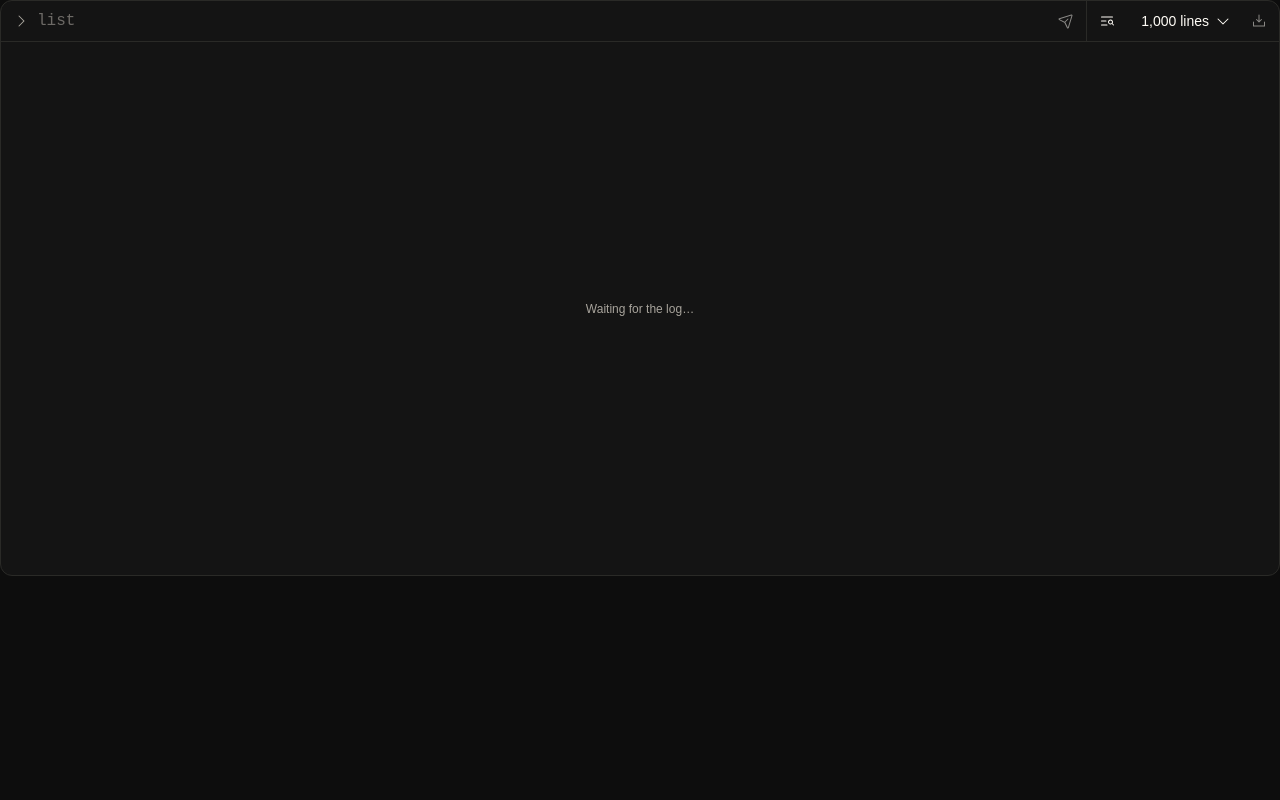
Test: ServiceConsole › moves through the words with the arrows while they show, and leaves the history to them once Escape closed them
The image size is (1280, 800).
Type "s" into the dropdown named "Send a line to the server console" at (540, 21), box [37, 5, 1042, 37]
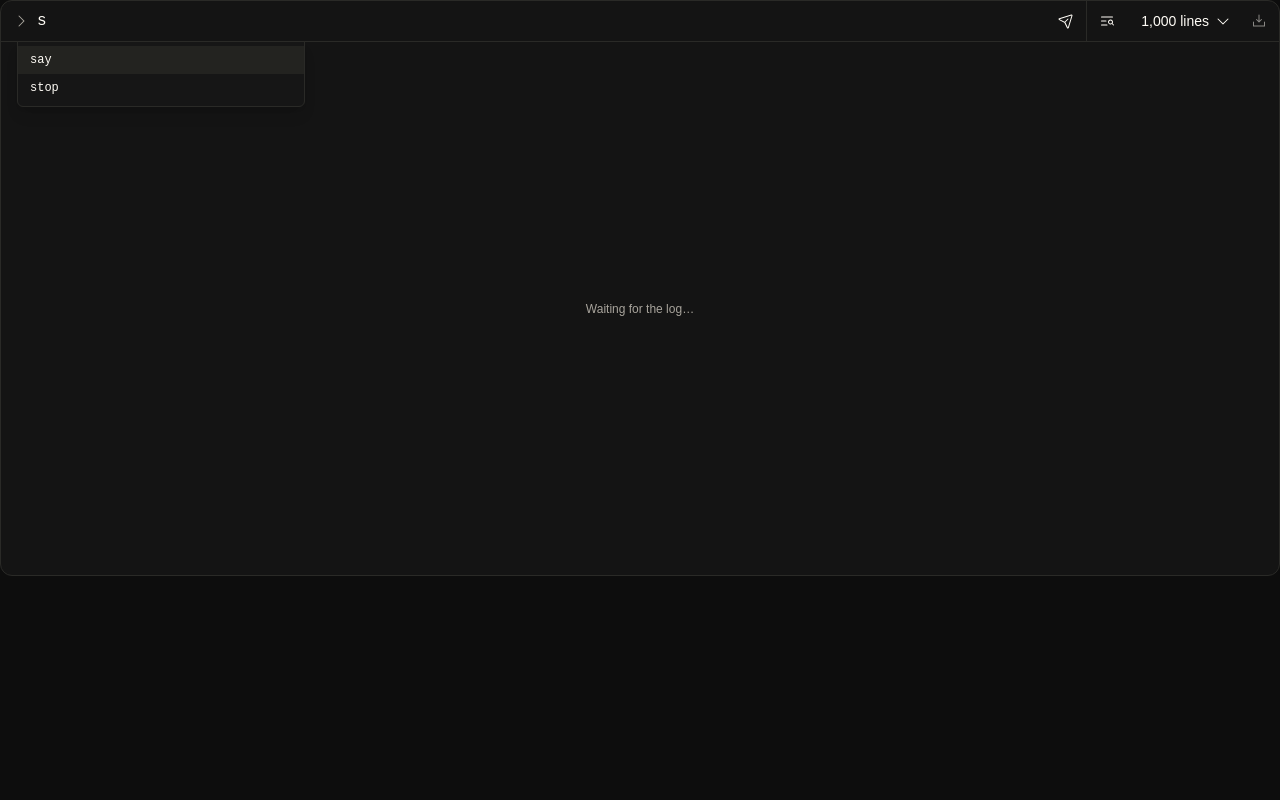
Press ArrowDown in the dropdown named "Send a line to the server console", box [37, 5, 1042, 37]
Press ArrowDown in the dropdown named "Send a line to the server console", box [37, 5, 1042, 37]
Press ArrowUp in the dropdown named "Send a line to the server console", box [37, 5, 1042, 37]
Press Tab in the dropdown named "Send a line to the server console", box [37, 5, 1042, 37]
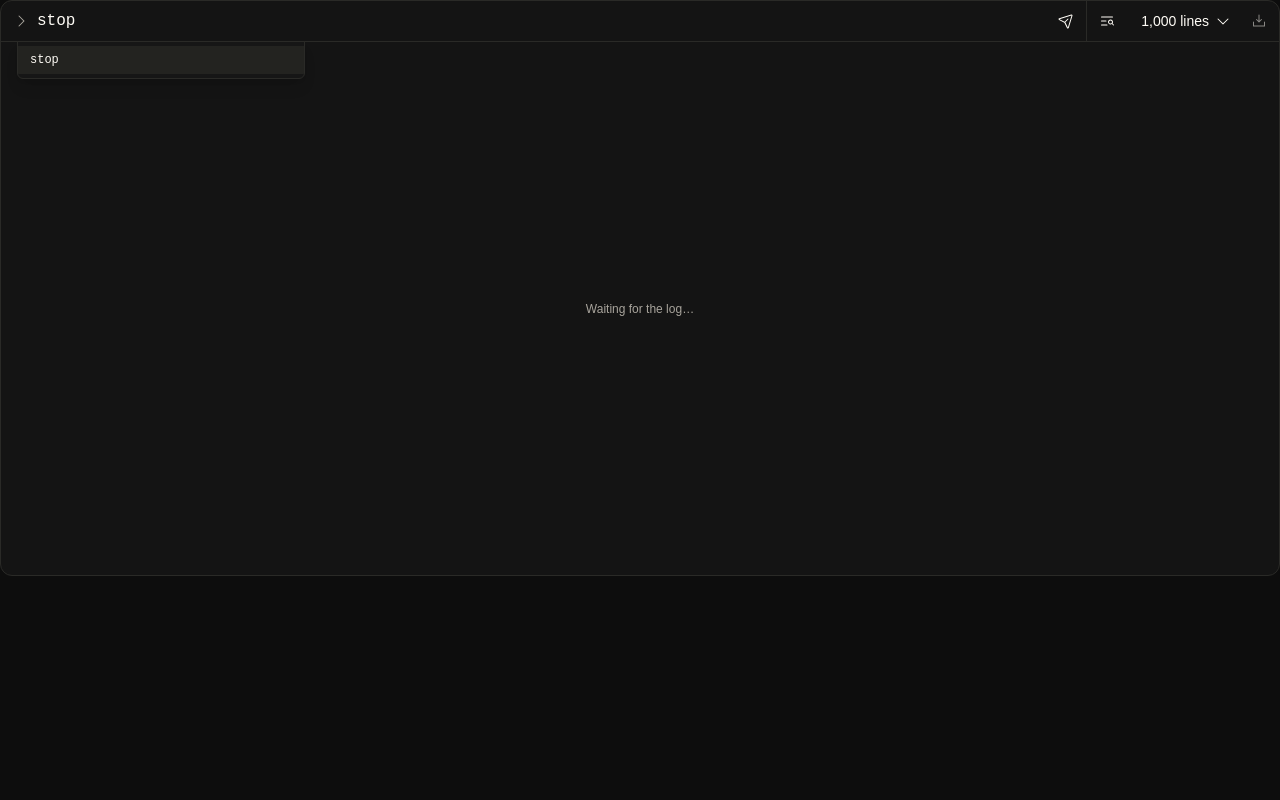
Expected: the dropdown named "Send a line to the server console" holds "stop"
Replace the text in the dropdown named "Send a line to the server console" with "s" at (540, 21), box [37, 5, 1042, 37]
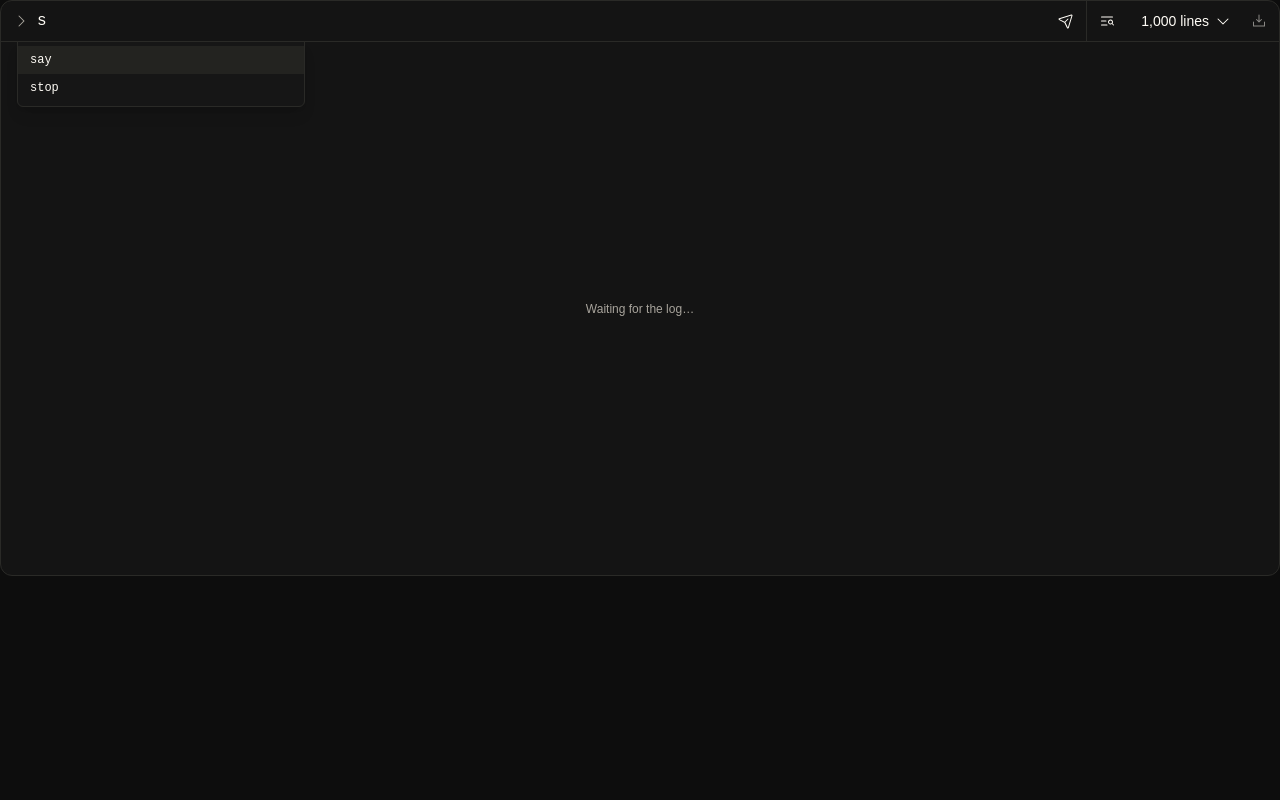
Press Escape in the dropdown named "Send a line to the server console", box [37, 5, 1042, 37]
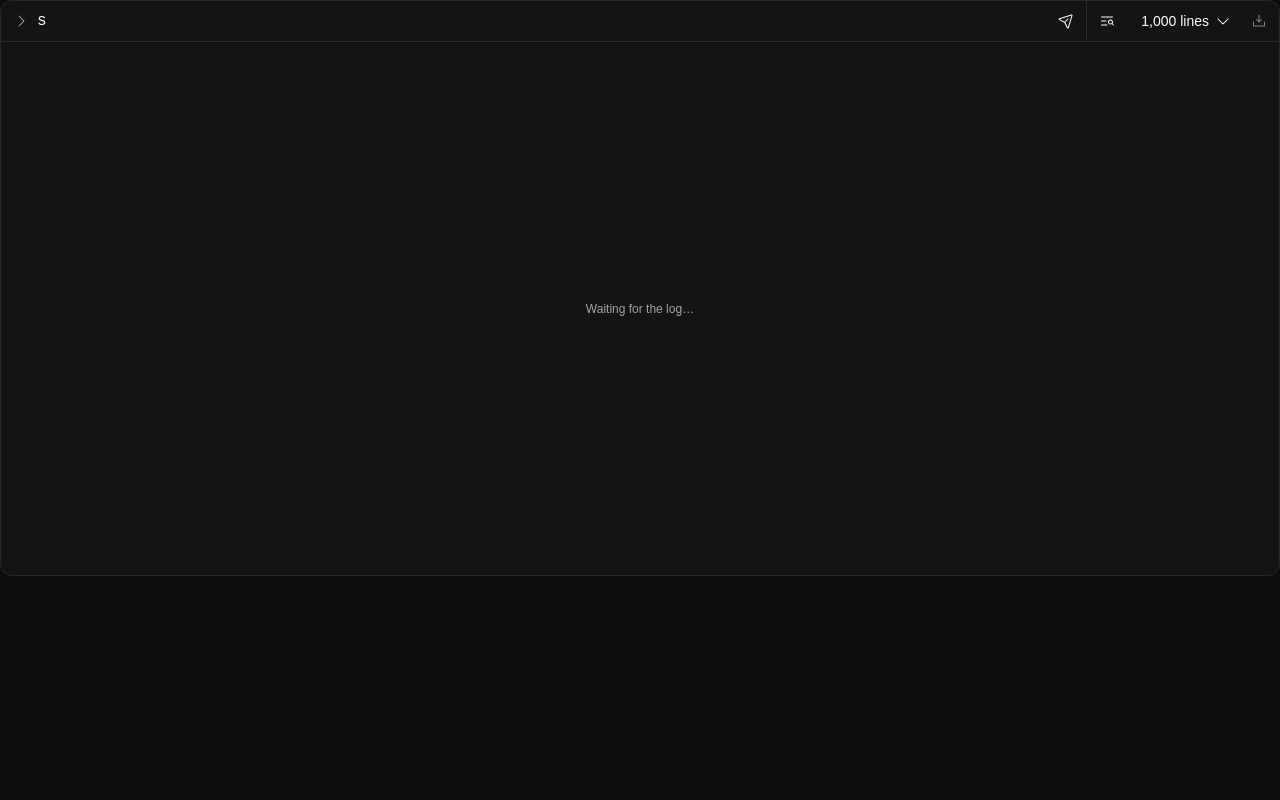
Expected: the list is gone
